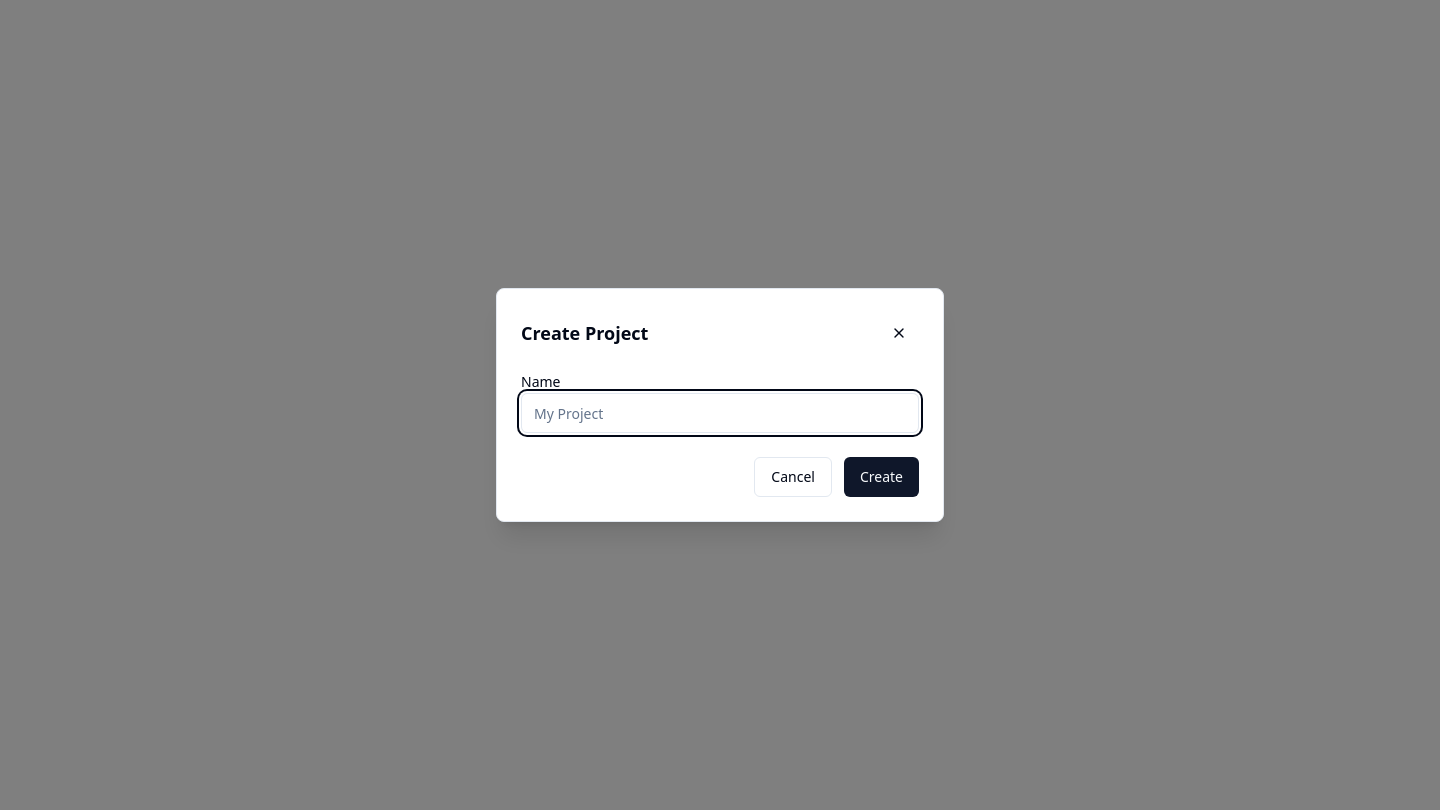
Test case: CreateProjectDialog › disables input and buttons while submitting
The image size is (1440, 810).
Type "Test" into the field labelled "Name".
click(720, 413); type("Test")  # box [521, 393, 919, 433]
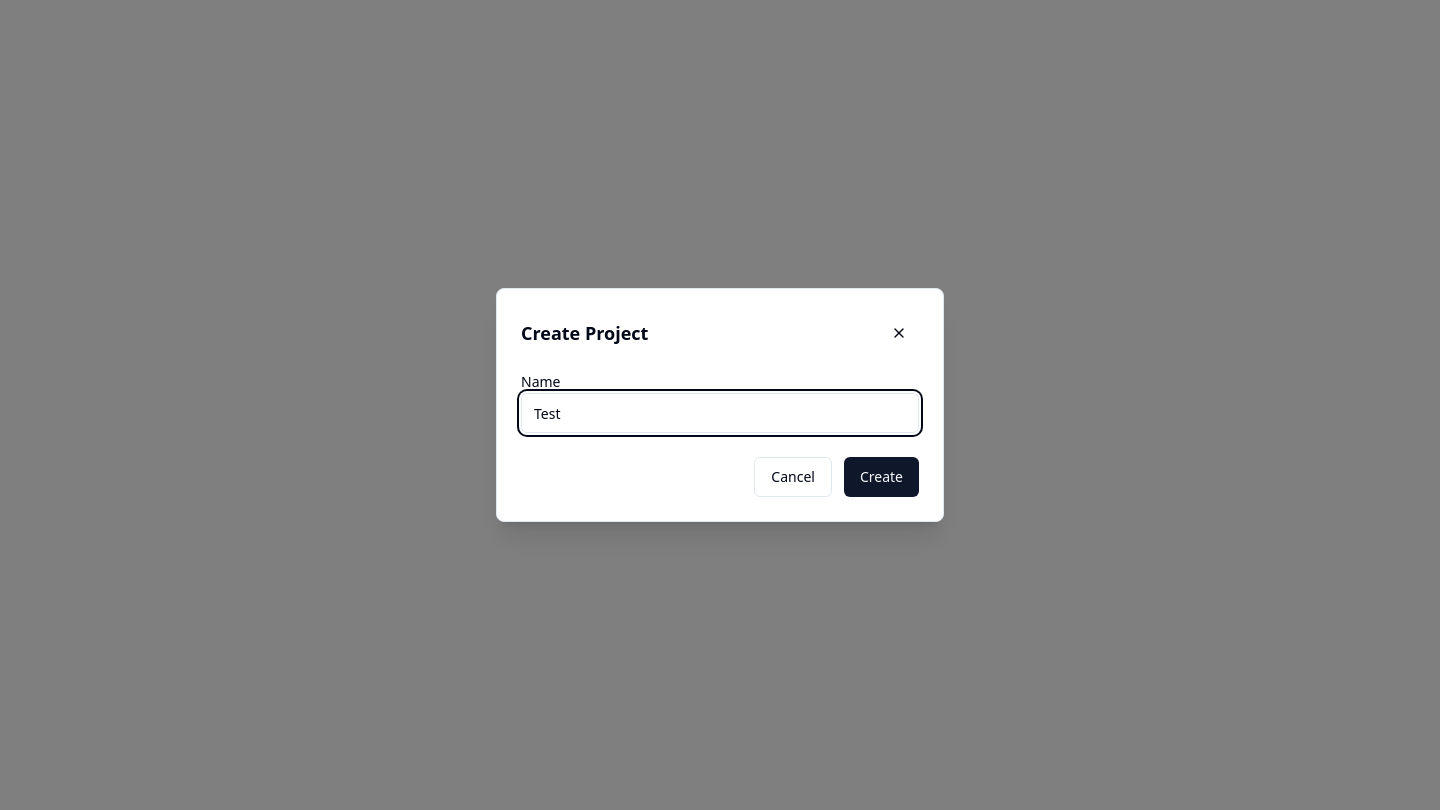
Click the button "Create".
click(881, 477)  # box [844, 457, 919, 497]
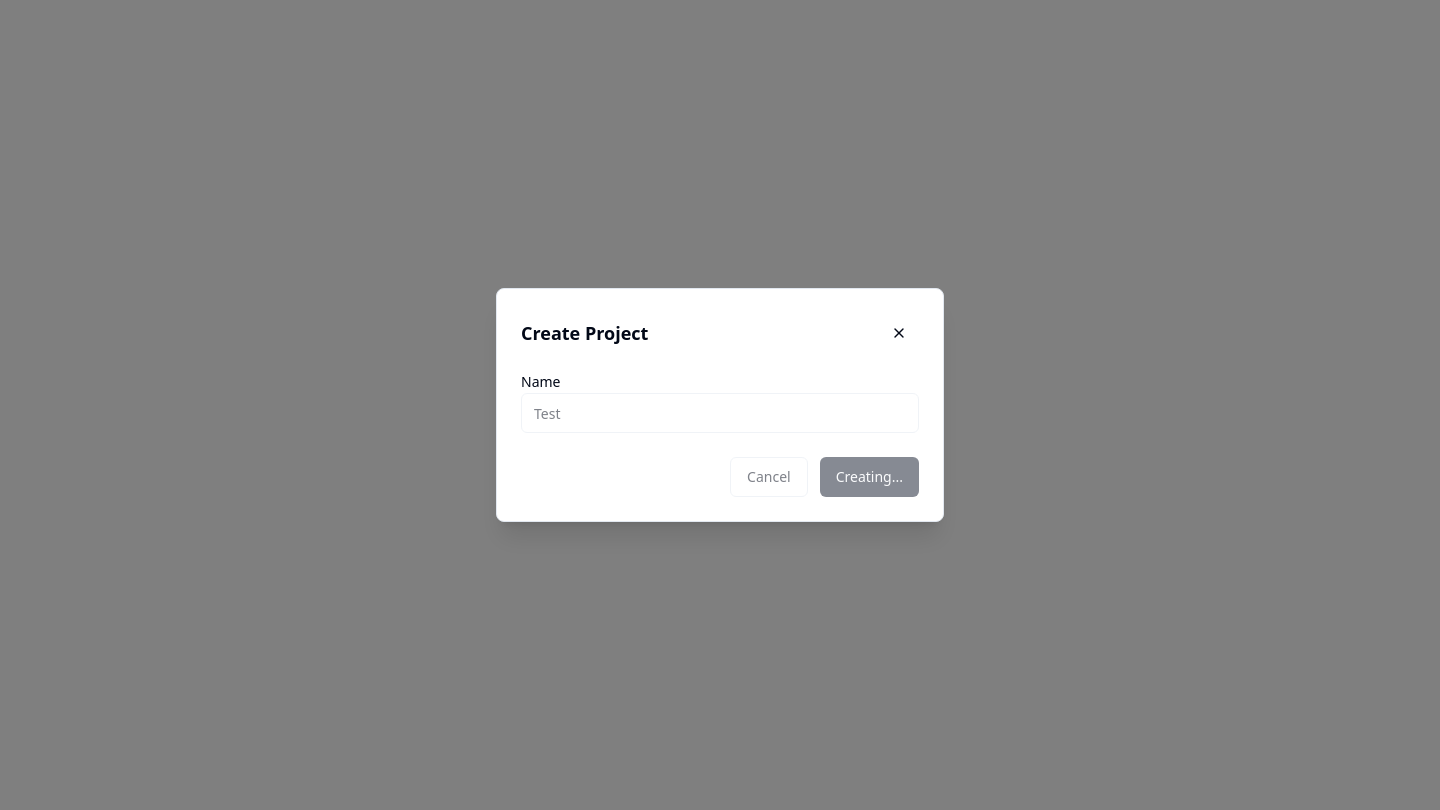
Now the field labelled "Name" is disabled, box [521, 393, 919, 433]
Now the button "Creating..." is disabled, box [820, 457, 919, 497]
Now the button "Cancel" is disabled, box [730, 457, 808, 497]
